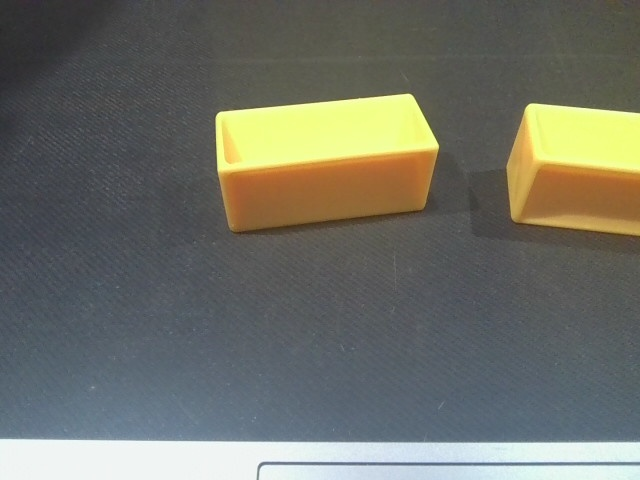YellowSample: (207, 92, 443, 236), (504, 99, 640, 240)
